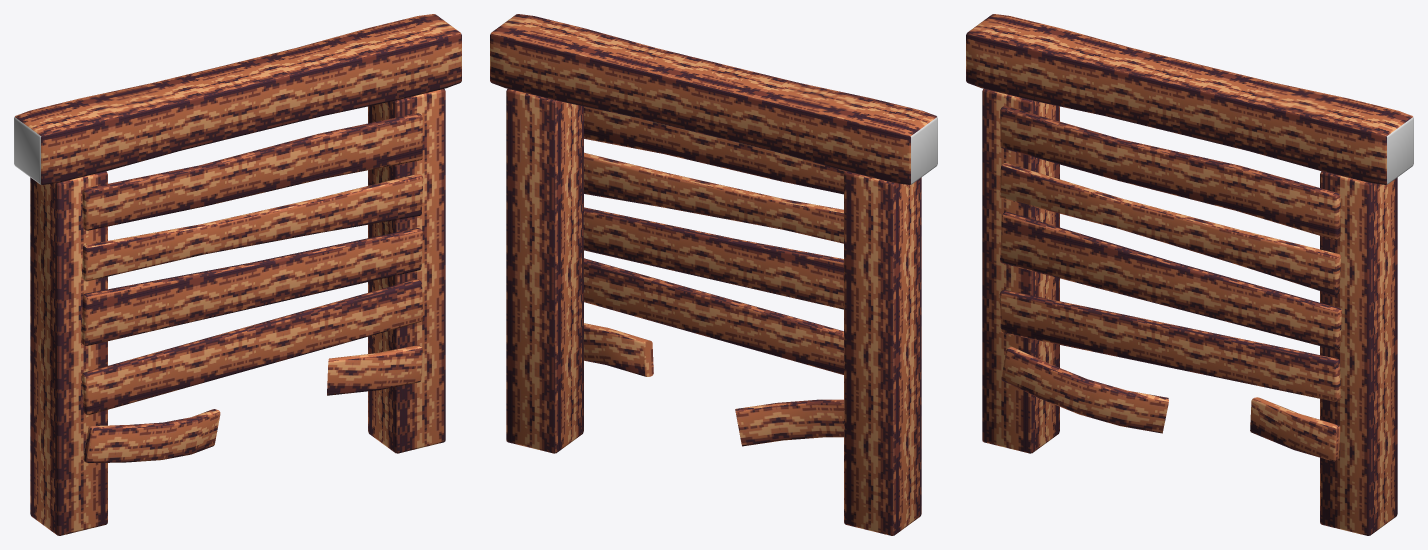
The model's file is VigaMadera 03.fbx.
The picture shows the model from 3 angles, left to right: view 1: azimuth 30°, elevation 25°; view 2: azimuth 150°, elevation 25°; view 3: azimuth 330°, elevation 25°; orthographic projection.
Parts seen in each view (by area): view 1: VigaMadera.003; view 2: VigaMadera.003; view 3: VigaMadera.003.
Part boxes in pixels (left/top/right/bottom): VigaMadera.003: left=14, top=14, right=461, bottom=535; VigaMadera.003: left=490, top=14, right=937, bottom=535; VigaMadera.003: left=966, top=14, right=1413, bottom=535.
Bounding box in the file's own units: 2.5 × 0.35 × 2.3.
